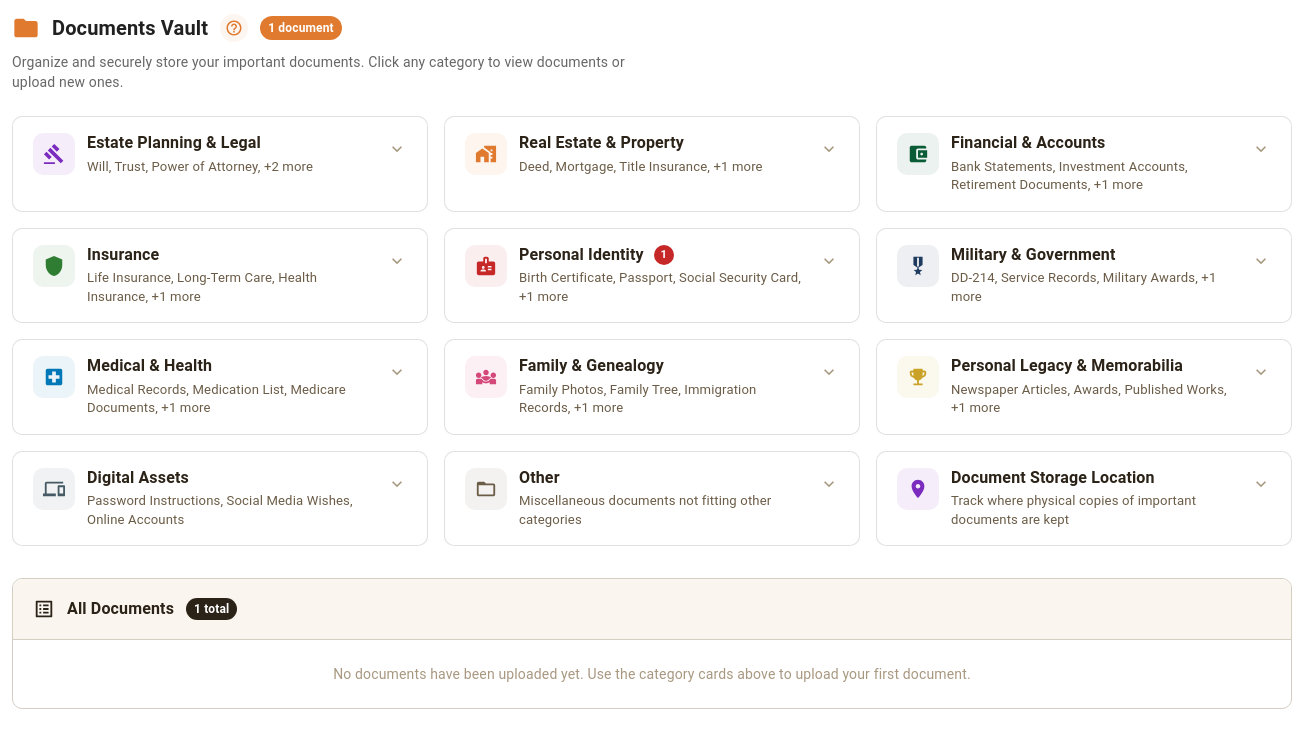
Test: DocumentsVaultSection › Document List › document expiring within 90 days shows warning indicator
The width and height of the screenshot is (1304, 732).
Click the heading "Personal Identity".
click(581, 255)  # box [519,245,644,265]
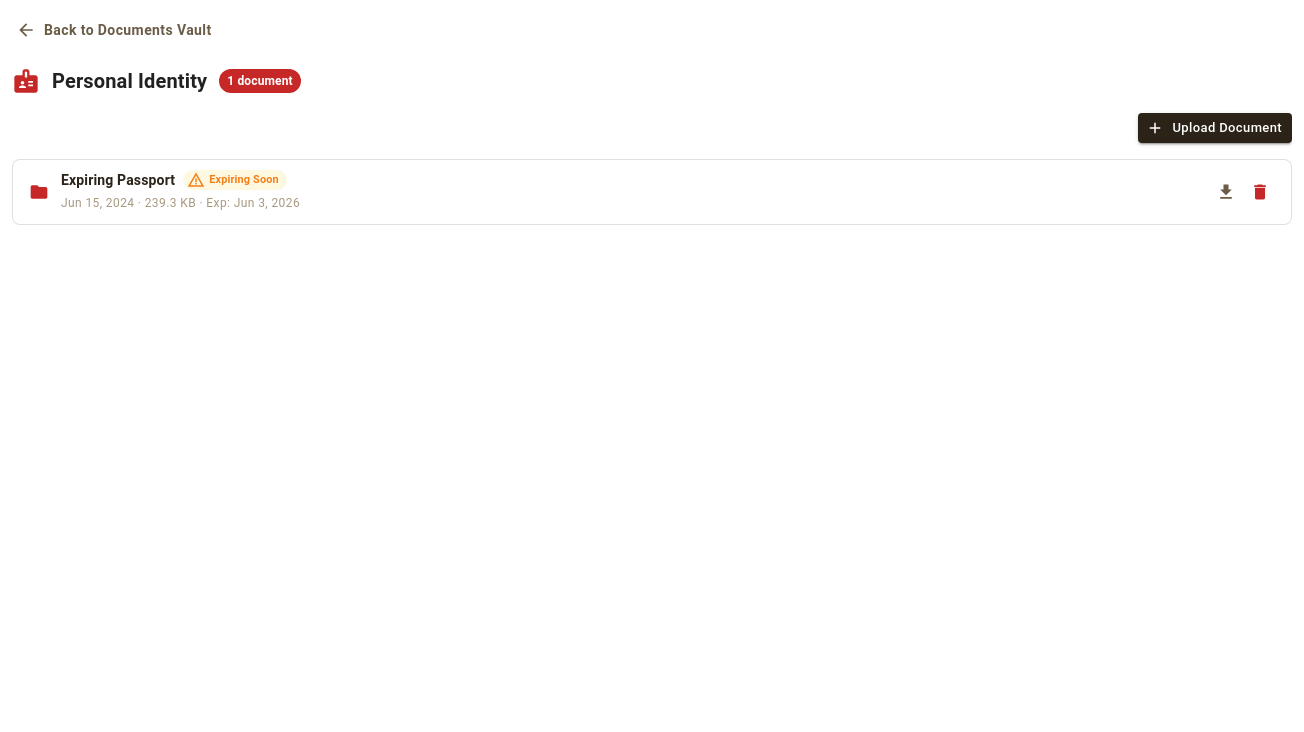
Expected: the text "Expiring Passport" is shown, [61,170,175,190]
Expected: the text "Expiring Soon" is shown, [209,173,279,186]
